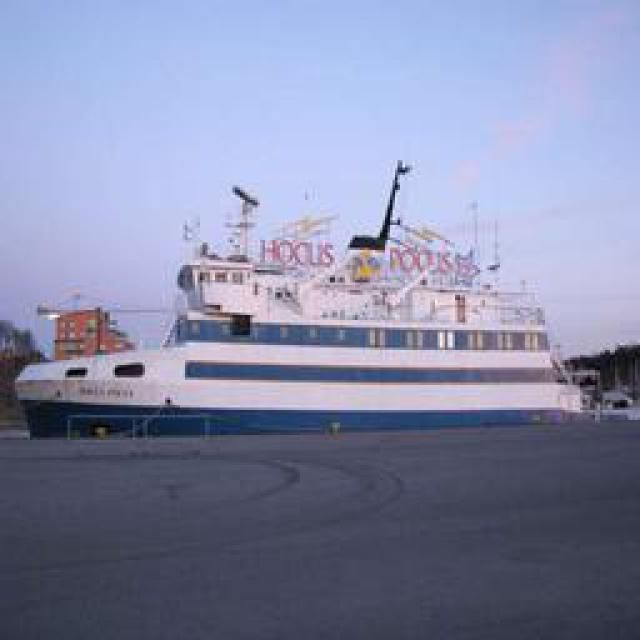Ship: (14, 154, 594, 439)
